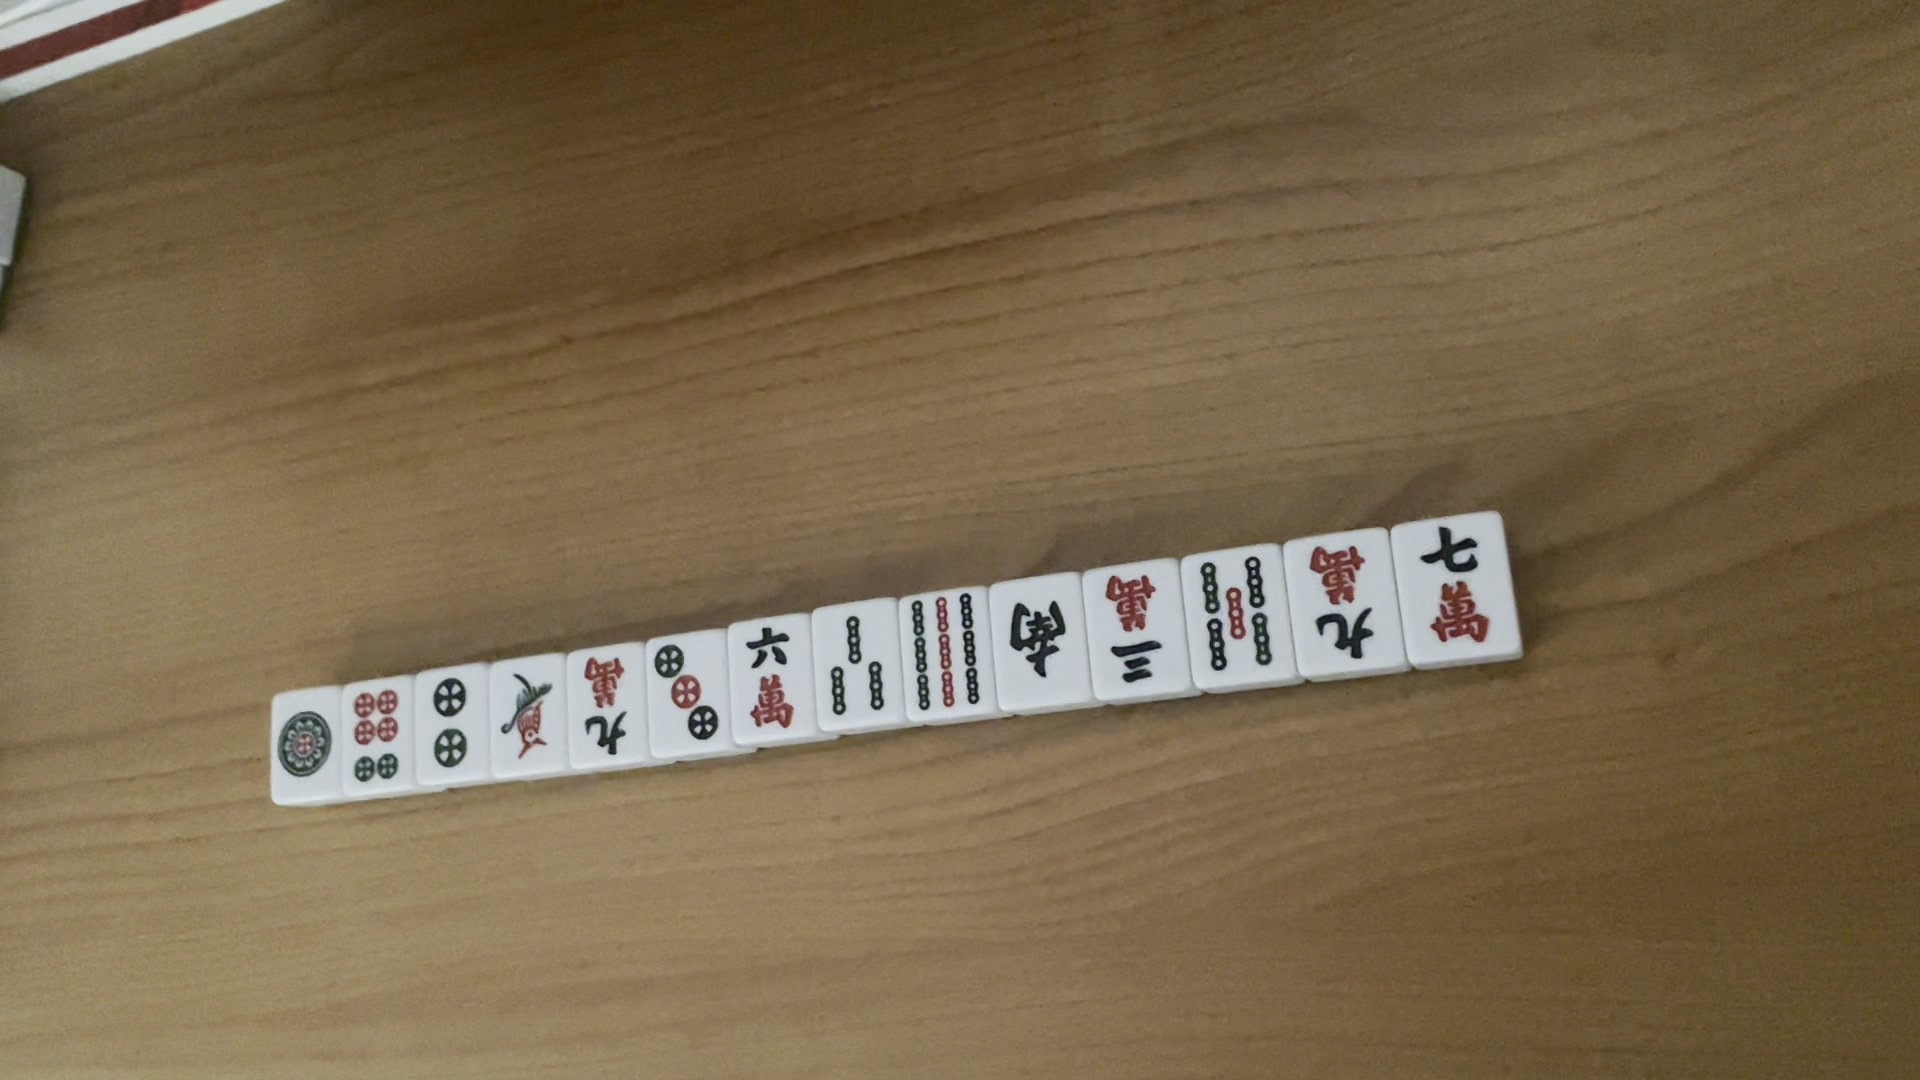b-1: (493, 670, 558, 764)
b-3: (825, 615, 894, 717)
b-5: (1189, 554, 1278, 673)
b-9: (905, 588, 986, 717)
c-3: (1100, 567, 1171, 694)
c-6: (738, 624, 800, 731)
c-7: (1415, 521, 1489, 651)
c-9: (1298, 541, 1387, 666), (582, 657, 632, 754)
d-1: (274, 705, 332, 779)
d-2: (422, 676, 473, 775)
d-3: (654, 640, 720, 741)
d-6: (344, 683, 404, 791)
honors-south: (1004, 599, 1073, 692)
